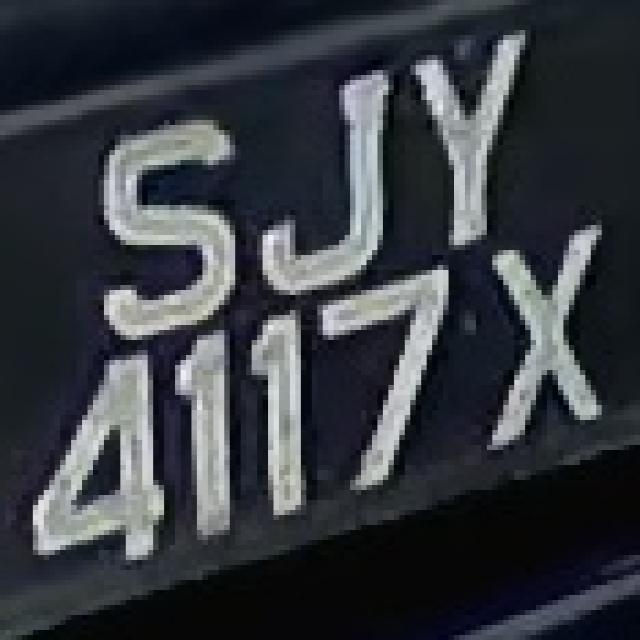1: (246, 280, 328, 520), (164, 325, 241, 545)
4: (6, 325, 164, 580)
7: (296, 265, 470, 500)
J: (246, 55, 394, 275)
S: (76, 105, 252, 335)
X: (470, 225, 612, 455)
Y: (388, 30, 526, 250)
